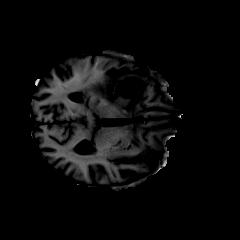glioma: (80, 64, 147, 108)
